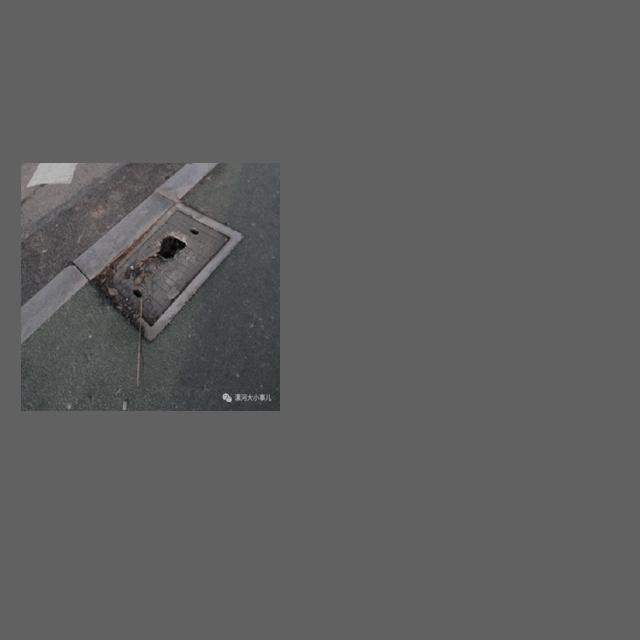broke: (88, 192, 253, 341)
